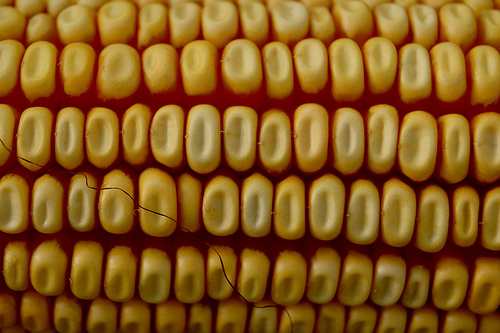corn: (3, 6, 499, 332)
